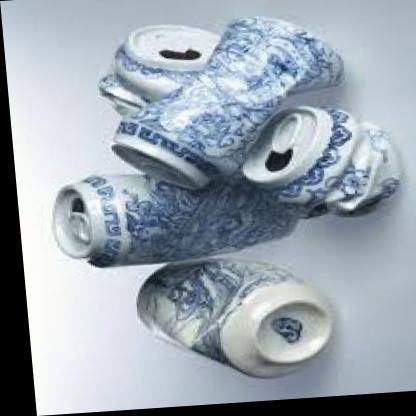trash: (53, 17, 400, 376), (113, 17, 342, 188), (137, 258, 332, 376)
